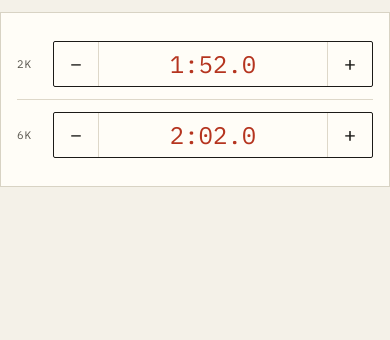
it: BaselineEditor › the 6k field types too, staging its own confirm line beside the 2k's
In the field named "2k split": coordinates (213, 64) [107,42,319,86], type "153"
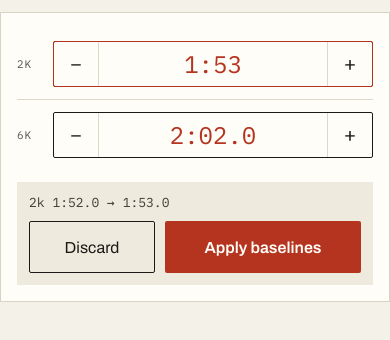
Expected: the text "2k 1:52.0 → 1:53.0" is shown, [29,194,170,211]
In the field named "6k split": coordinates (213, 135) [107,113,319,157], type "201"
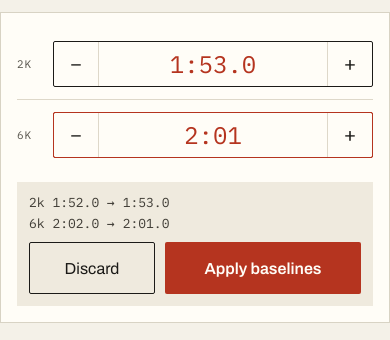
Expected: the text "6k 2:02.0 → 2:01.0" is shown, [29,215,170,232]
